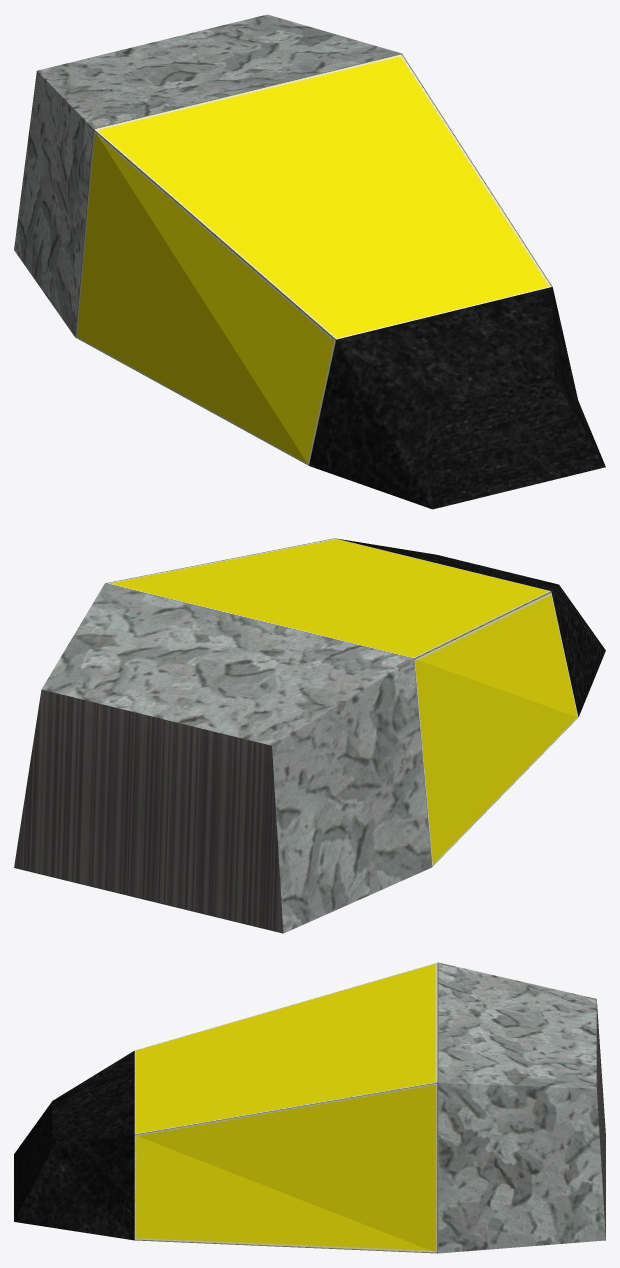
Rendered from tank1.obj.
The picture shows the model from 3 angles, top to bottom: view 1: azimuth 30°, elevation 25°; view 2: azimuth 150°, elevation 25°; view 3: azimuth 270°, elevation 25°; orthographic projection. The views are drawn at different scales.
Bounding box in the file's own units: 3.3 × 1.86 × 6.12.
